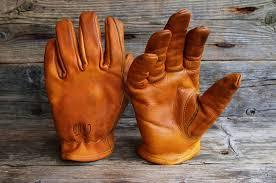gloves: (128, 9, 241, 165), (43, 11, 129, 162)
